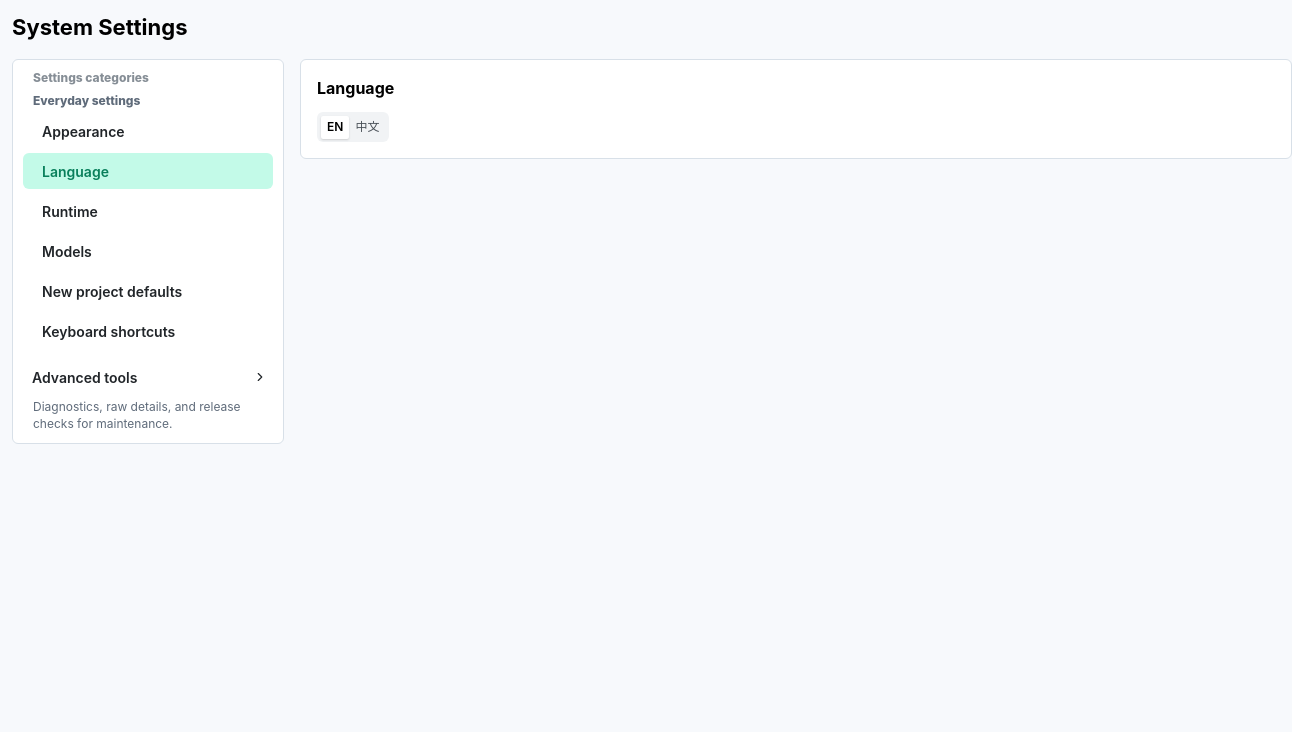
Test case: SettingsPage › shows searchable keyboard shortcuts as system settings
The image size is (1292, 732).
Click the button "Keyboard shortcuts": (148, 331) [23,313,273,349]
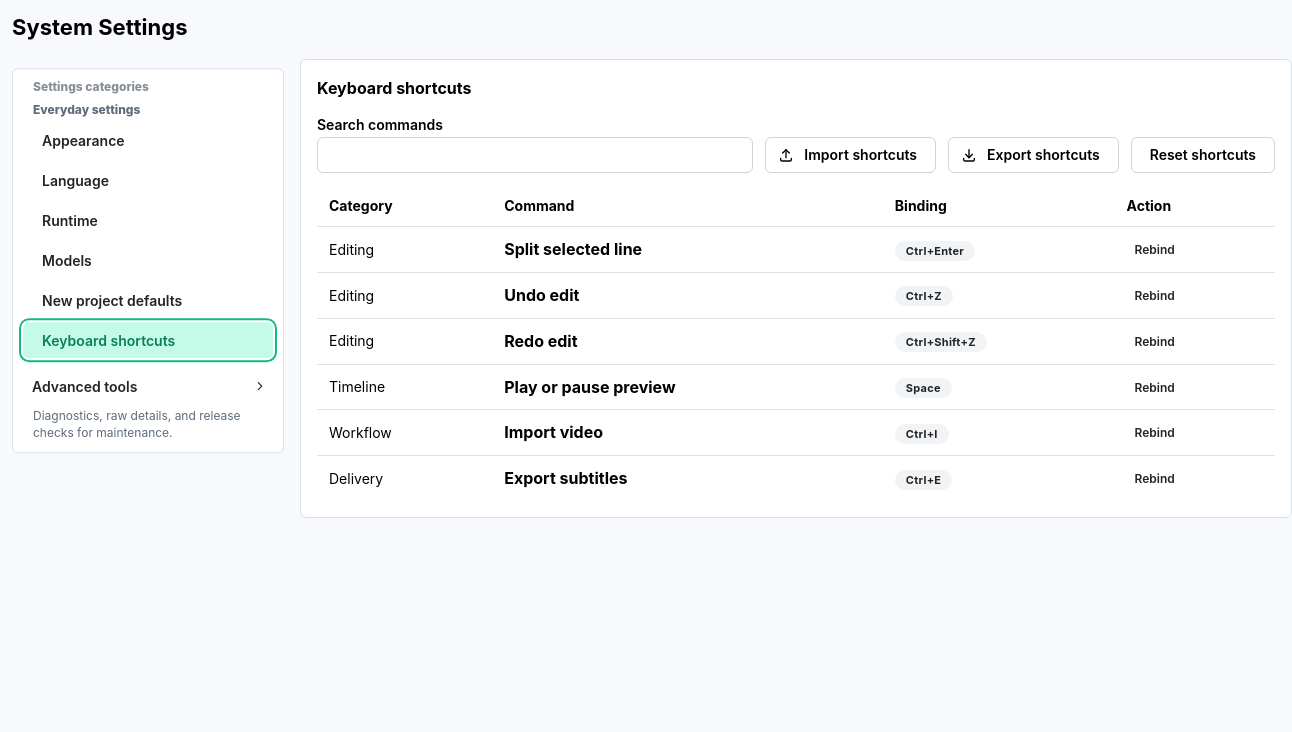
Now the heading "Keyboard shortcuts" is shown, box [317,78,472,98]
Now the field labelled "Search commands" is shown
Now the text "Split selected line" is shown, box [504,239,642,259]
In the field labelled "Search commands": (535, 155) [317,137,753,173], type "export"
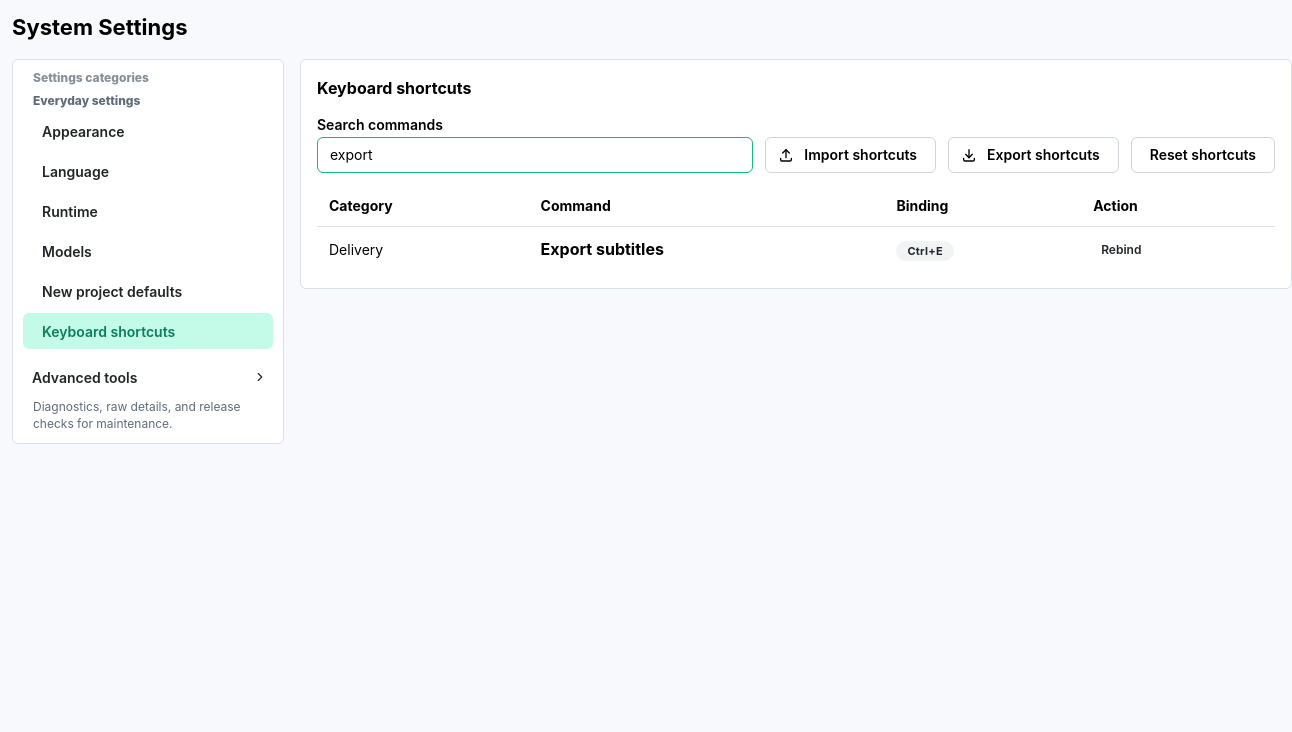
Now the text "Export subtitles" is shown, box [541,239,664,259]
Now the text "Split selected line" is gone
